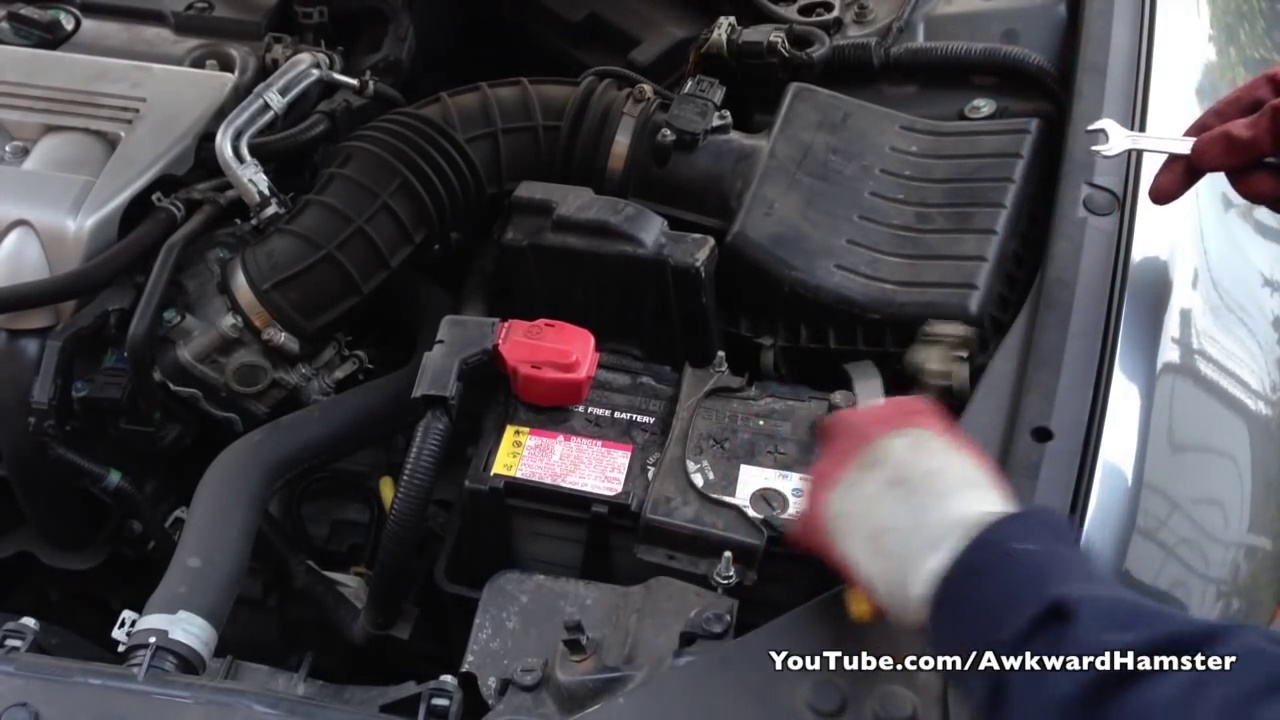battery: (463, 341, 863, 564)
pos_connected: (403, 303, 620, 422)
